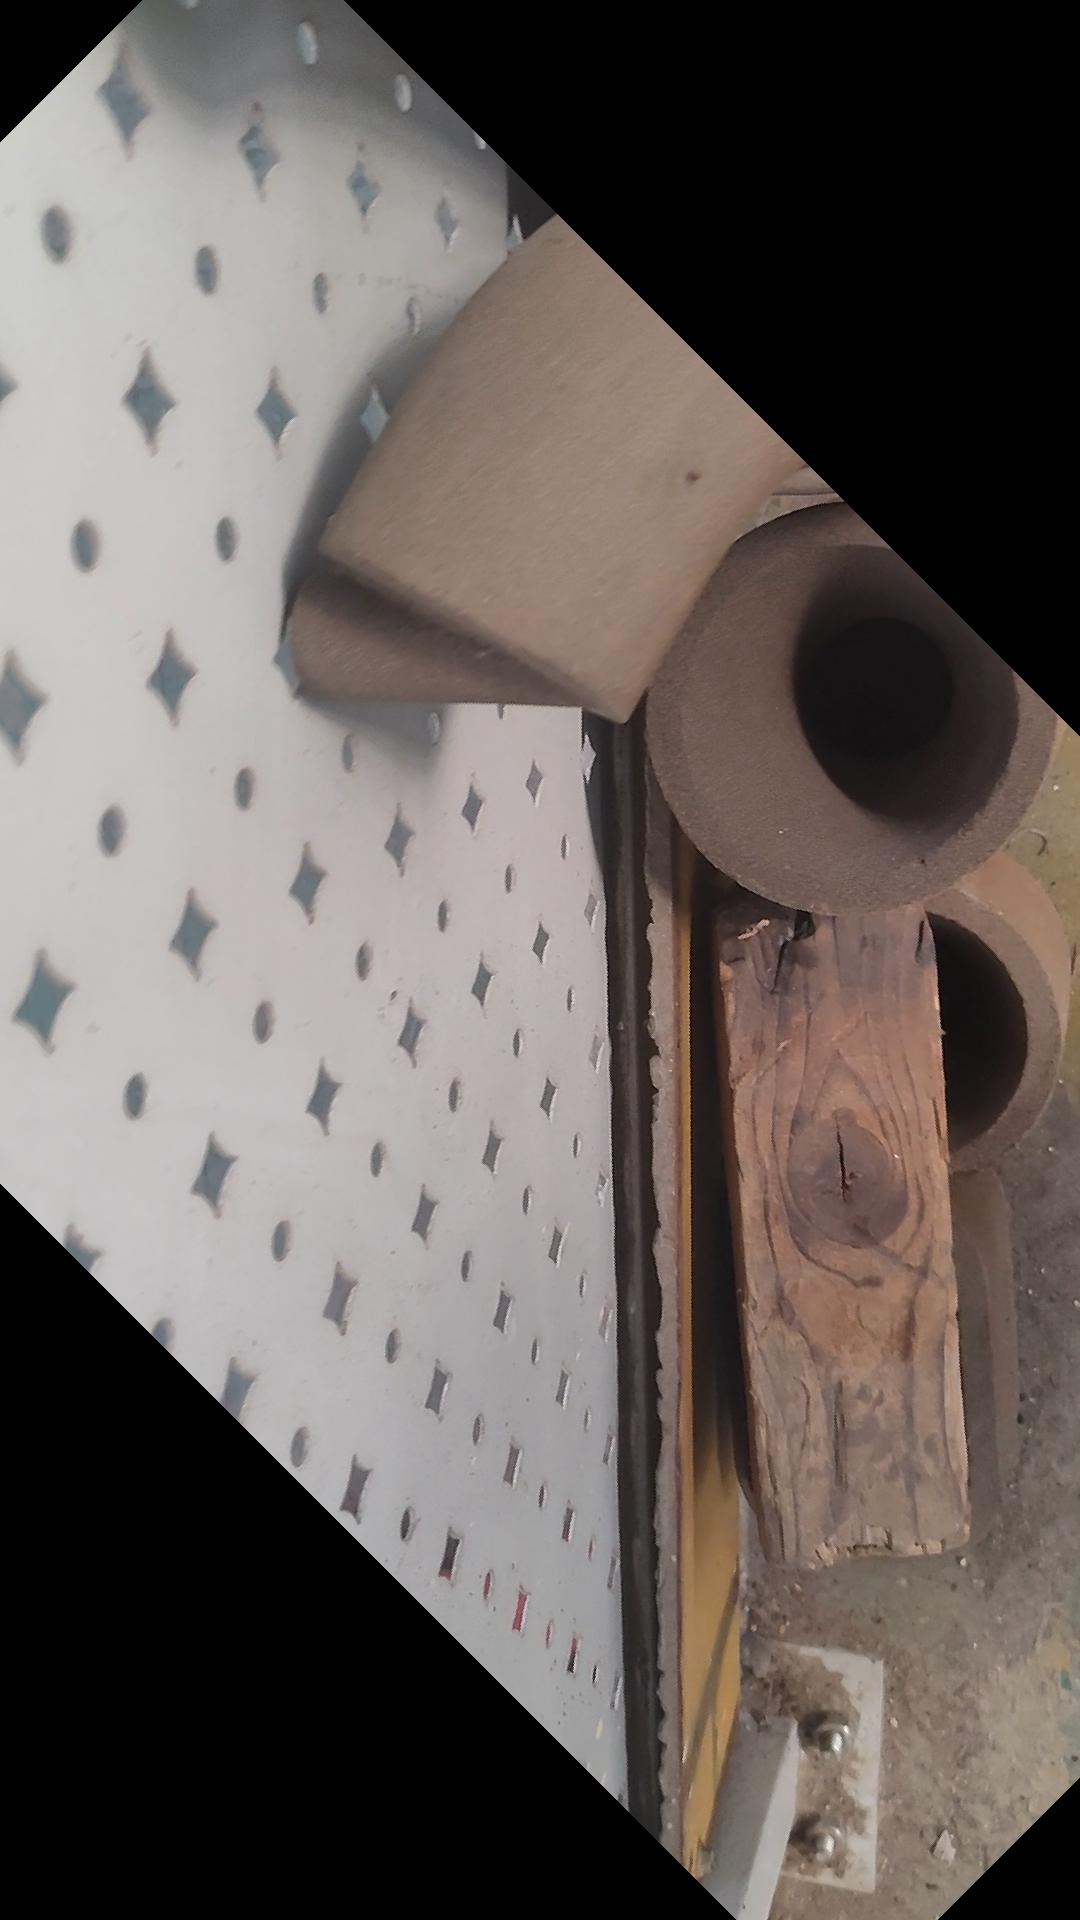pouring hole: (676, 543, 1018, 872), (773, 909, 1027, 1156)
